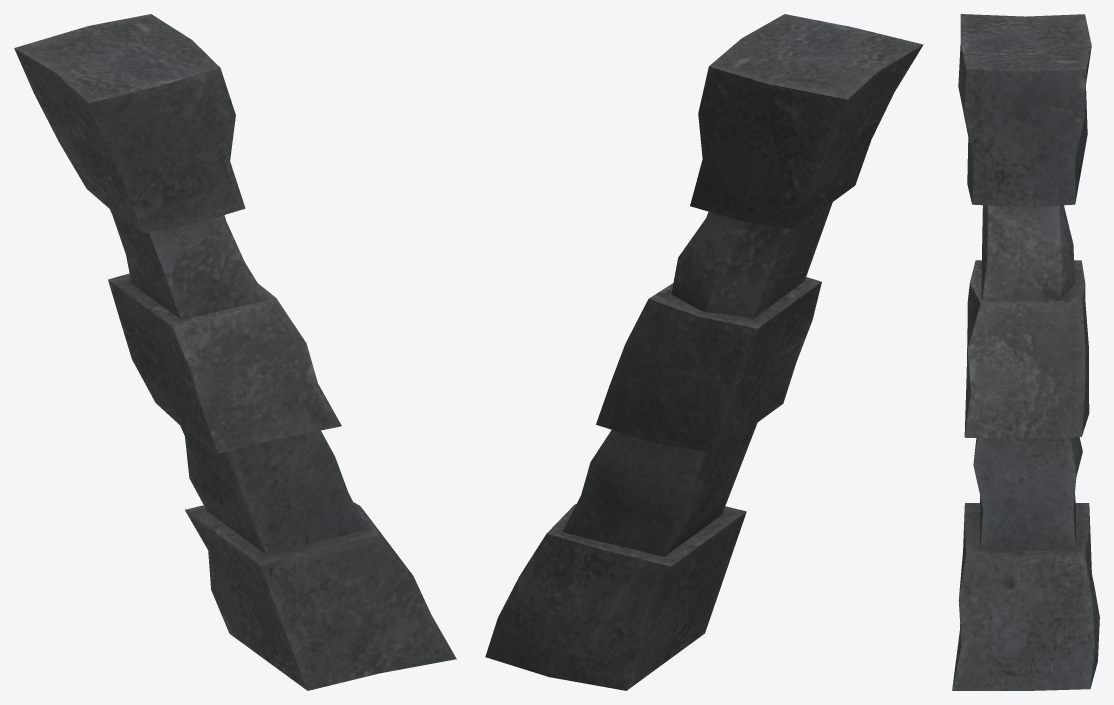
File: ColumnStraight.fbx
3 renders of one model, left to right at view 1: azimuth 30°, elevation 25°; view 2: azimuth 150°, elevation 25°; view 3: azimuth 270°, elevation 25°, orthographic. The views are drawn at different scales.
Visible parts, largest first — view 1: PILLAR_Straight; view 2: PILLAR_Straight; view 3: PILLAR_Straight.
Boxes of the visible parts, x1,y1,x2,y2 form: PILLAR_Straight: [14, 14, 456, 690]; PILLAR_Straight: [485, 14, 923, 690]; PILLAR_Straight: [952, 14, 1099, 690].
Bounding box in the file's own units: 7.21 × 12.16 × 3.07.
1 material, 1 textured.
